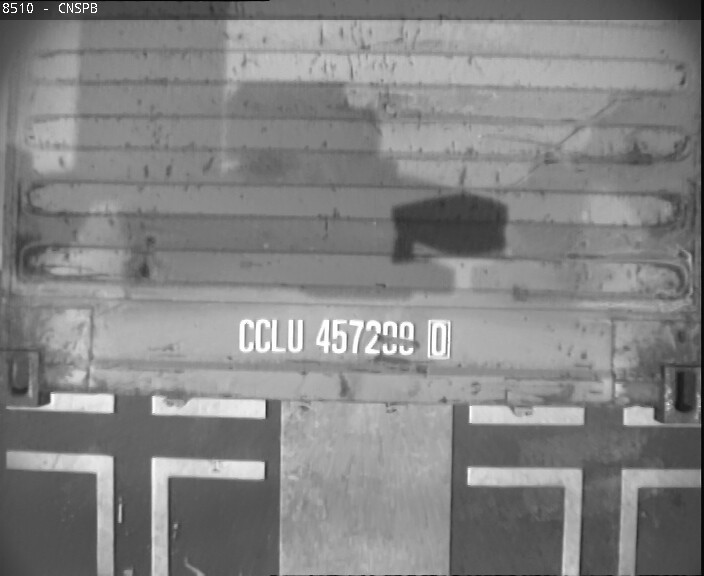groundmarker_1: (6, 450, 261, 576), (466, 465, 704, 576)
